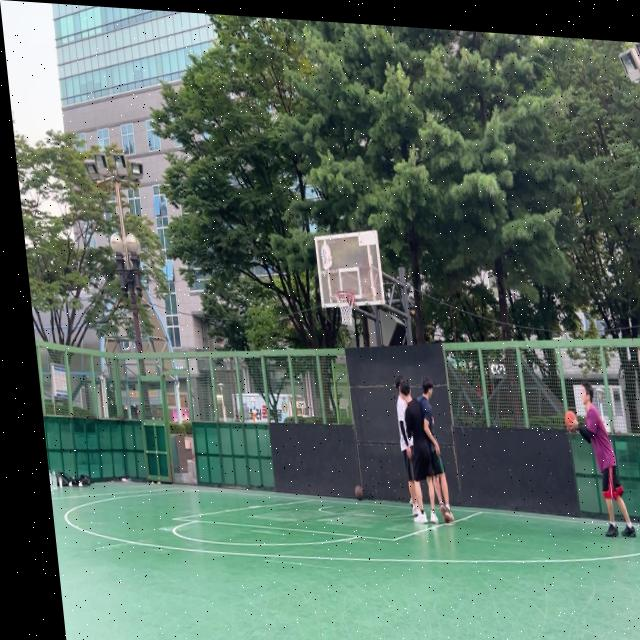basketball: (564, 410, 578, 433), (354, 484, 365, 502)
hoop: (334, 289, 358, 327)
